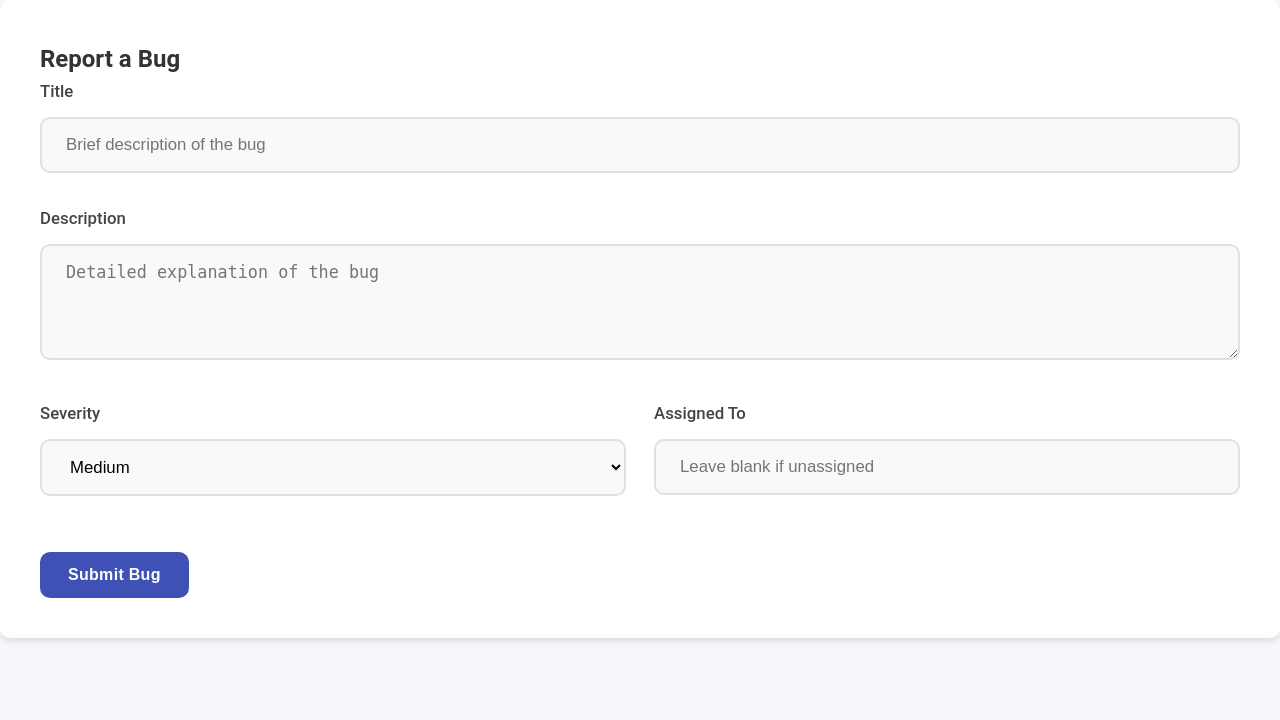
BugForm Component › handles API errors
Fill out form
Step 1. Type "Test Bug" into the field labelled "Title" → (640, 145), box [40,117,1240,173]
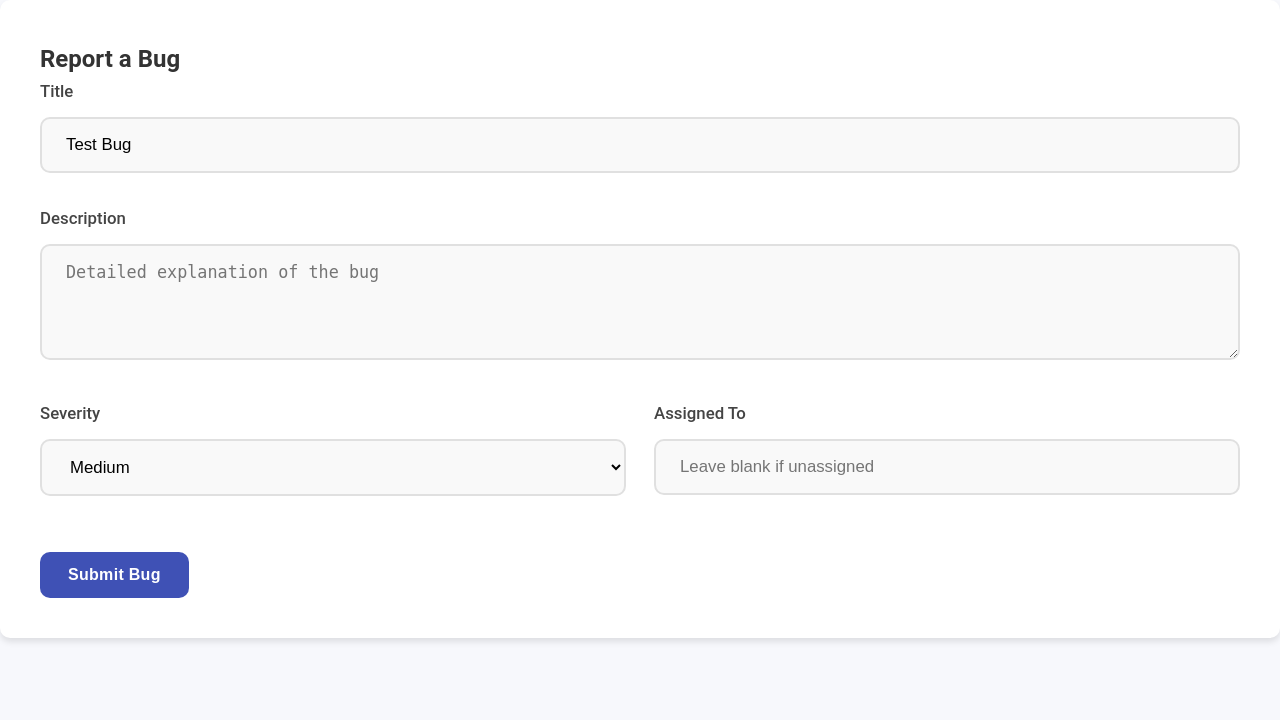
Step 2. Type "Description" into the text box labelled "Description" → (640, 302), box [40,244,1240,360]
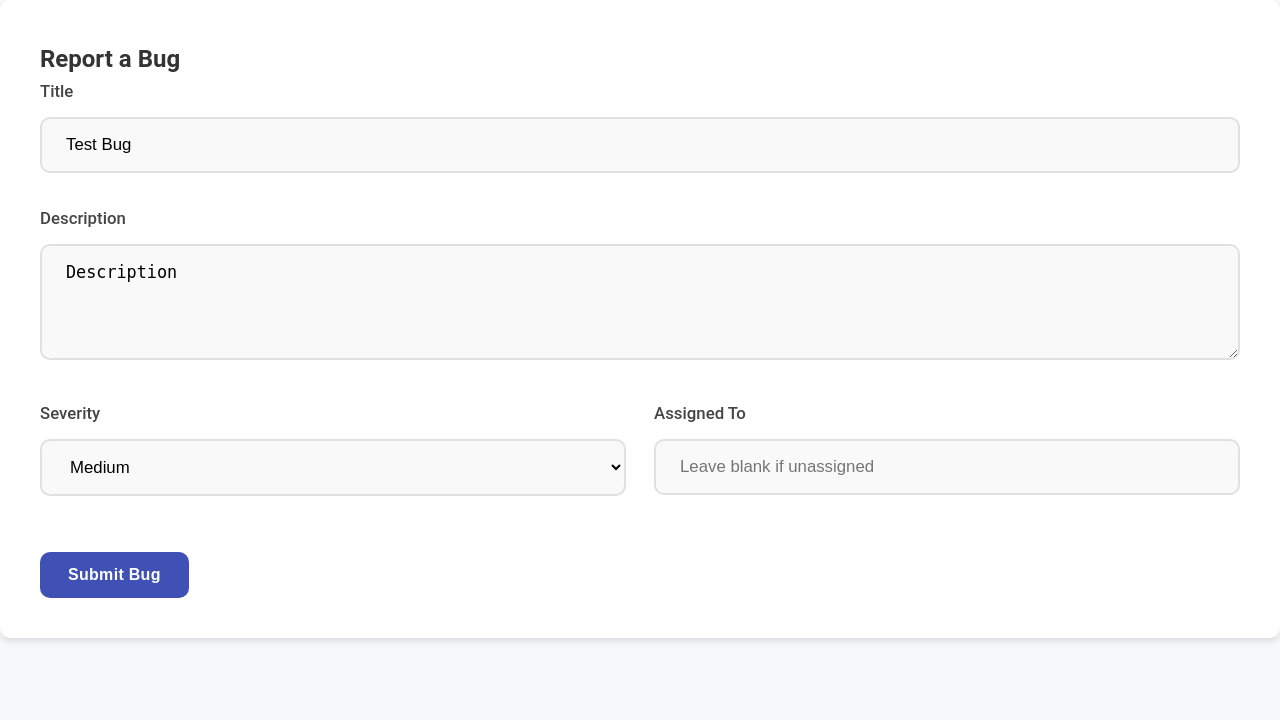
Submit form
Step 3. Click the button "Submit Bug" → (114, 575), box [40,552,189,598]
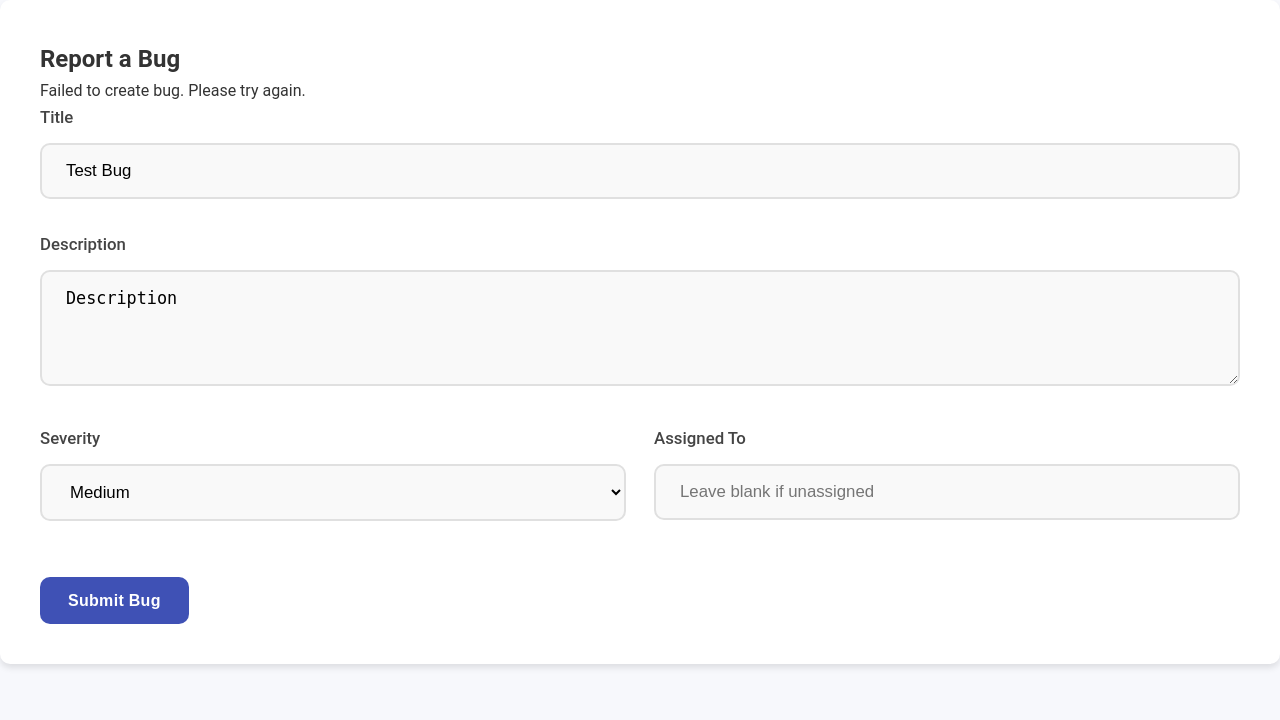
Expected: the text "Failed to create bug. Please try again." is shown, [40,81,306,100]
